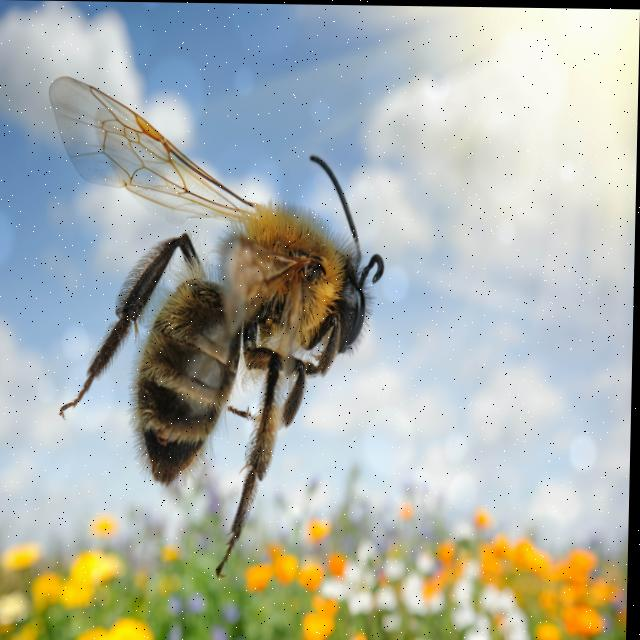Apis-mellifera-scutellata: (36, 61, 403, 569)
